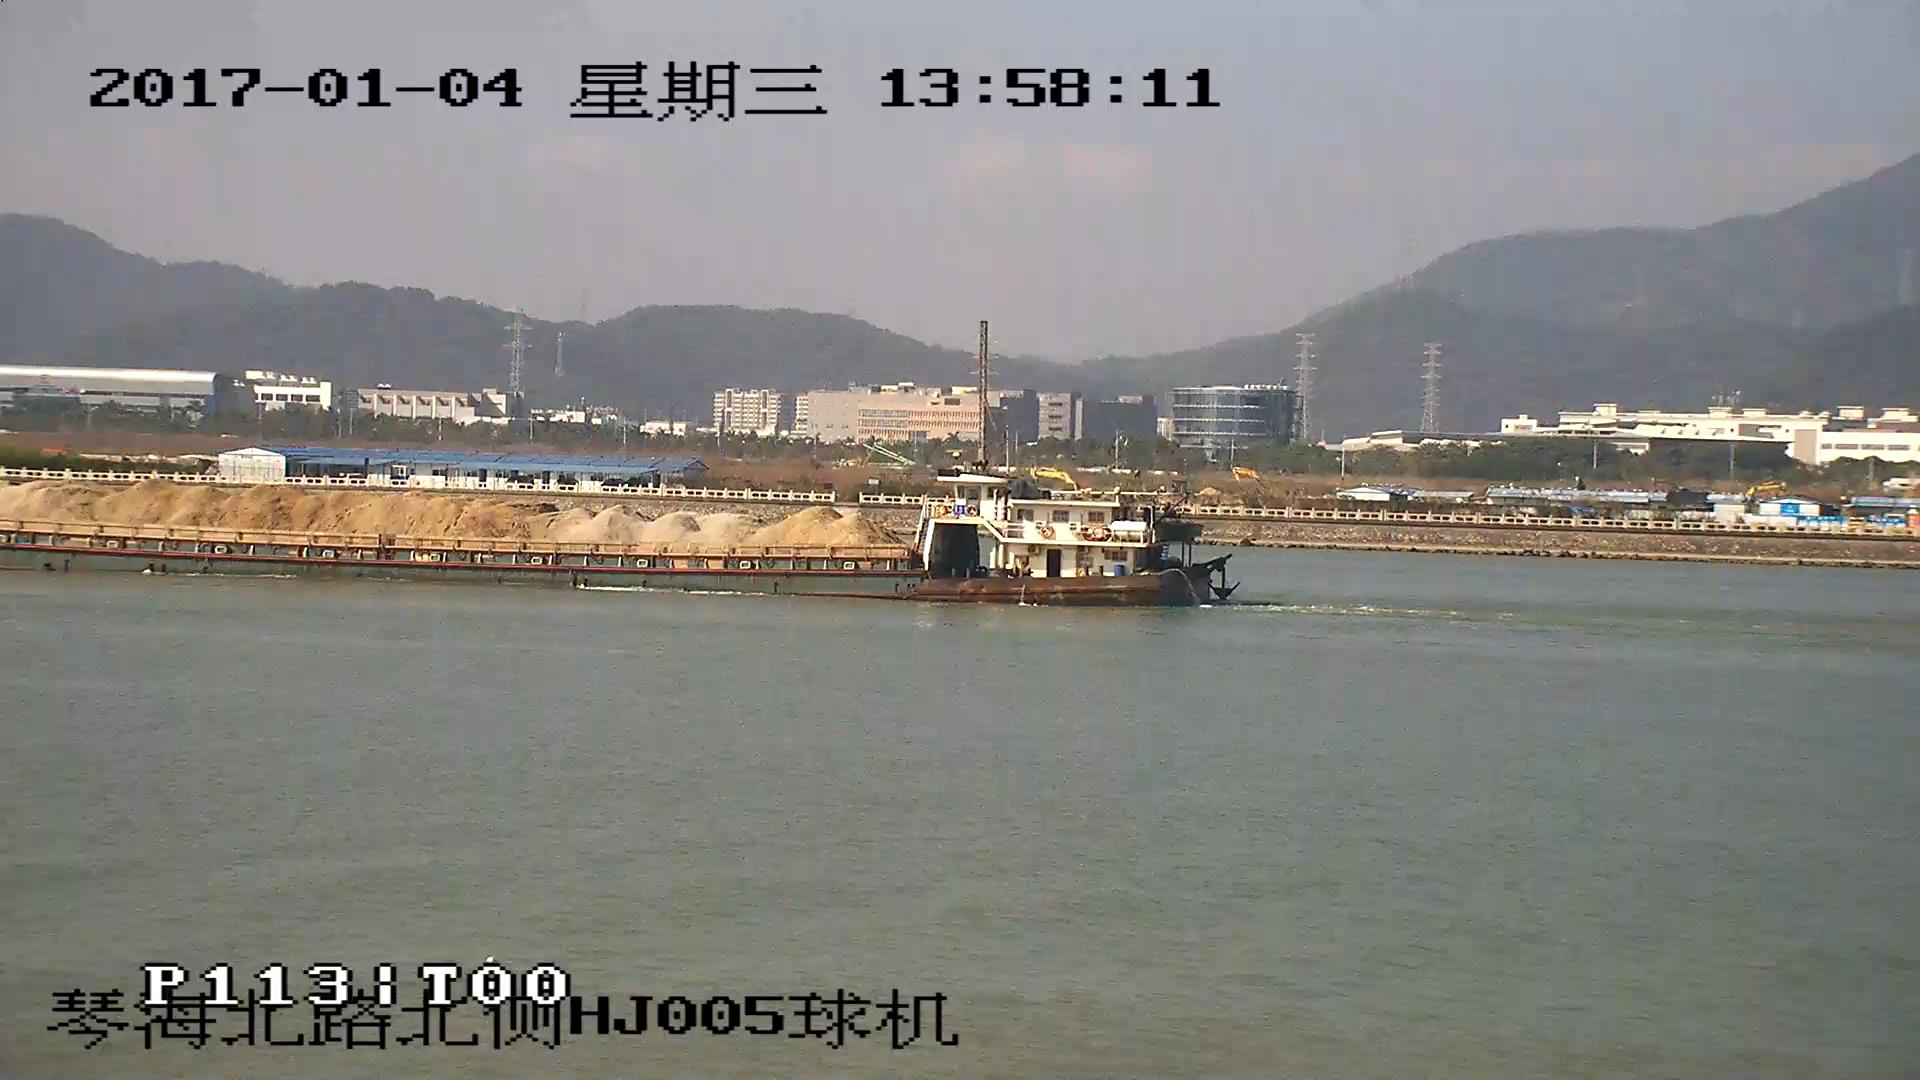ore carrier: (1, 465, 1237, 609)
